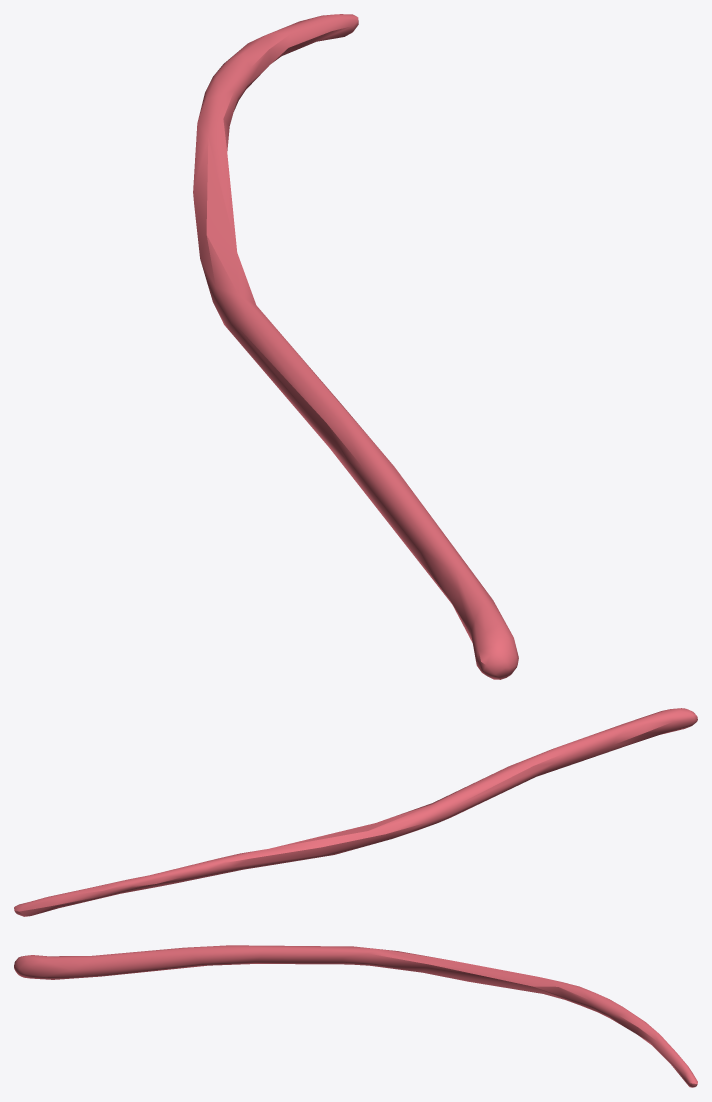
The model's file is fma70490_fj3475.glb.
3 renders of one model, top to bottom at view 1: azimuth 30°, elevation 25°; view 2: azimuth 150°, elevation 25°; view 3: azimuth 270°, elevation 25°, orthographic. The views are drawn at different scales.
Visible parts, largest first — view 1: FMA70490_FJ3475; view 2: FMA70490_FJ3475; view 3: FMA70490_FJ3475.
Part boxes in pixels (x1,y1,x2,y2): FMA70490_FJ3475: [193, 14, 518, 679]; FMA70490_FJ3475: [14, 708, 697, 916]; FMA70490_FJ3475: [14, 945, 697, 1087].
Bounding box in the file's own units: 0.0146 × 0.0027 × 0.0313.
